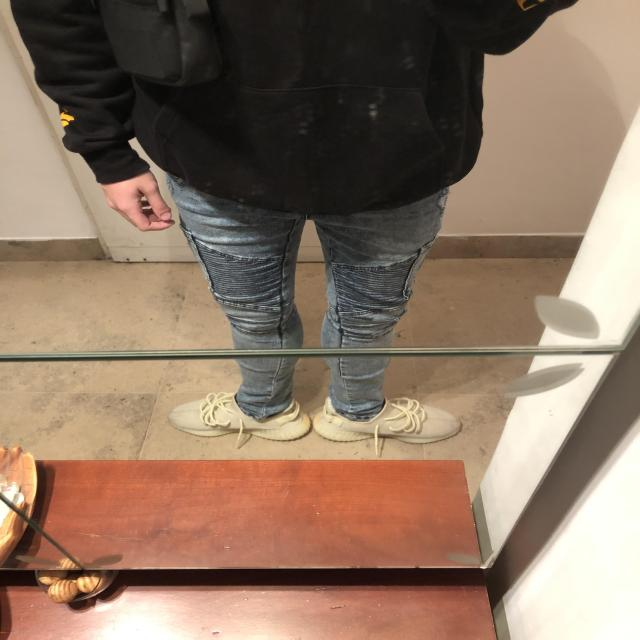shoe: (310, 392, 464, 446), (160, 390, 312, 442)
